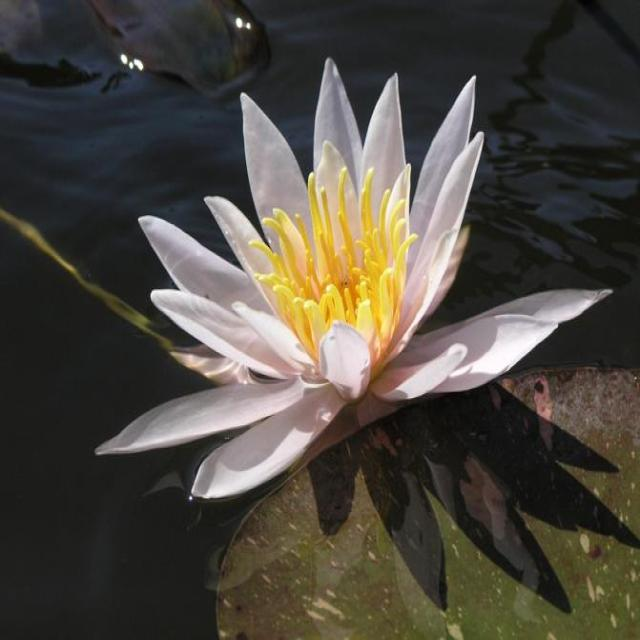water-lily: (100, 41, 623, 548)
